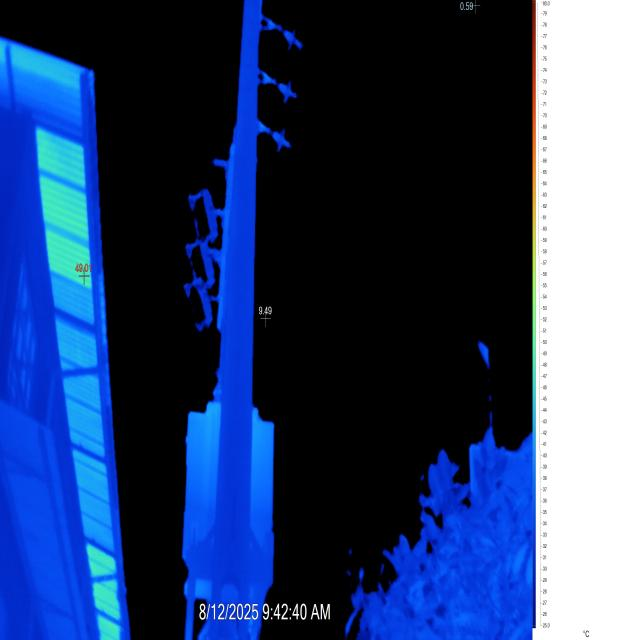Transformer: (177, 2, 313, 636)
